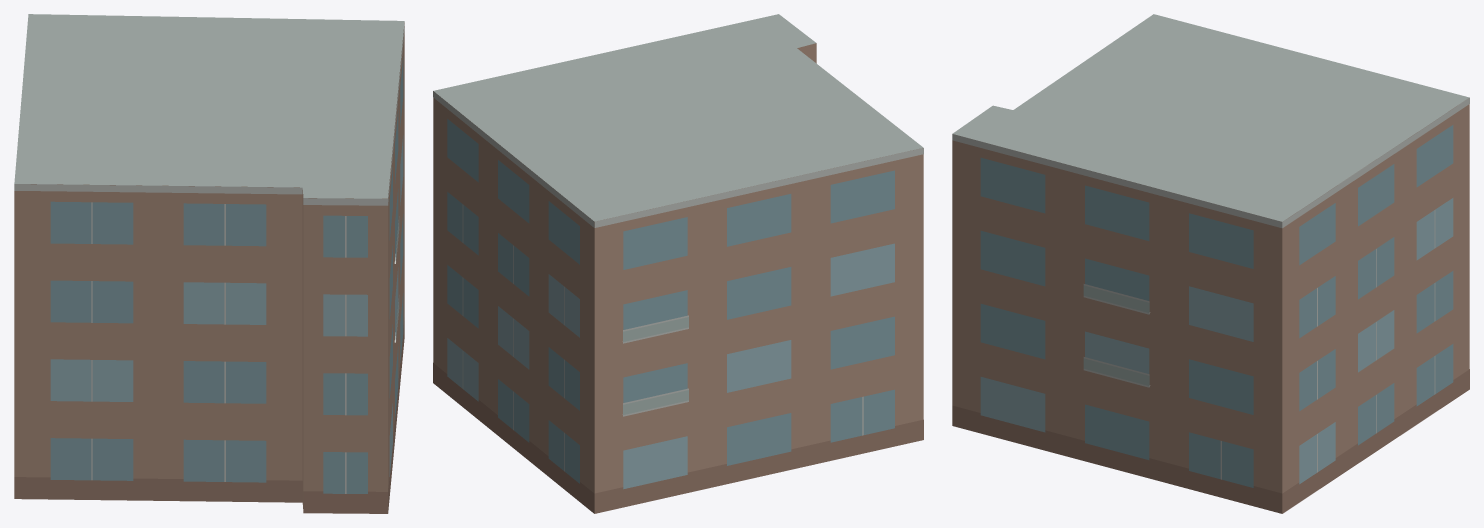
File: survey-upis-32681699.glb
The picture shows the model from 3 angles, left to right: view 1: azimuth 30°, elevation 25°; view 2: azimuth 150°, elevation 25°; view 3: azimuth 270°, elevation 25°; orthographic projection. The views are drawn at different scales.
Visible parts, largest first — view 1: survey-upis-32681699.tmp; view 2: survey-upis-32681699.tmp; view 3: survey-upis-32681699.tmp.
Part boxes in pixels (left/top/right/bottom): survey-upis-32681699.tmp: left=14, top=14, right=404, bottom=513; survey-upis-32681699.tmp: left=433, top=14, right=923, bottom=513; survey-upis-32681699.tmp: left=952, top=14, right=1469, bottom=513.
Bounding box in the file's own units: 16.8 × 11 × 17.67.
